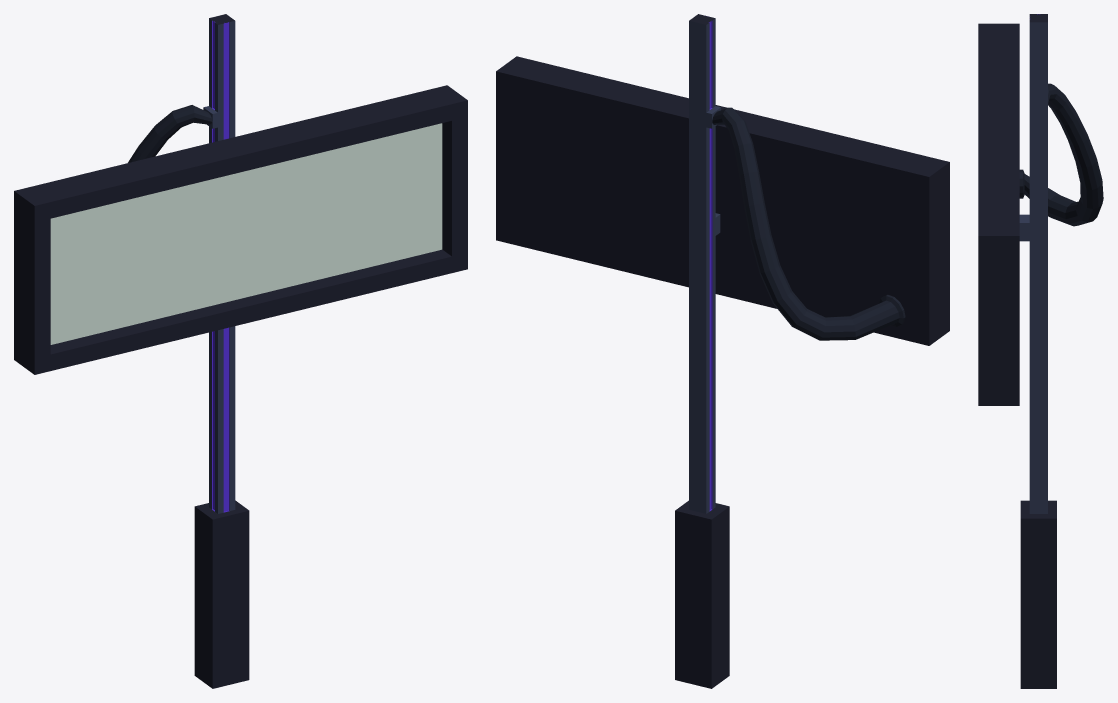
The model's file is Building_StreetSign_Beeg.fbx.
The picture shows the model from 3 angles, left to right: view 1: azimuth 30°, elevation 25°; view 2: azimuth 150°, elevation 25°; view 3: azimuth 270°, elevation 25°; orthographic projection.
Parts seen in each view (by area): view 1: Cube.341; view 2: Cube.341; view 3: Cube.341.
Boxes of the visible parts, box(x1,y1,x2,y2) form: Cube.341: box(14, 14, 467, 688); Cube.341: box(496, 14, 949, 688); Cube.341: box(978, 14, 1103, 688).
Bounding box in the file's own units: 190 × 277 × 47.43.
